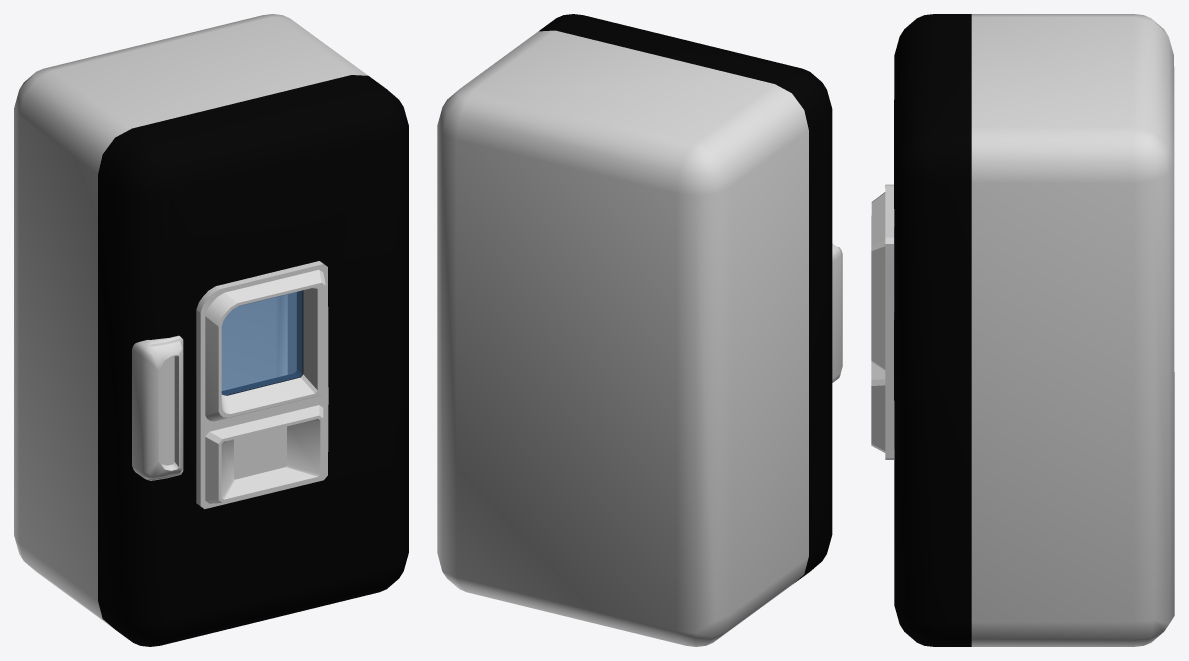
Rendered from refrigerator.fbx.
The picture shows the model from 3 angles, left to right: view 1: azimuth 30°, elevation 25°; view 2: azimuth 150°, elevation 25°; view 3: azimuth 270°, elevation 25°; orthographic projection. The views are drawn at different scales.
Parts seen in each view (by area): view 1: ChamferBox010, ChamferBox009; view 2: ChamferBox009, ChamferBox010; view 3: ChamferBox009, ChamferBox010.
Boxes of the visible parts, x1,y1,x2,y2 form: ChamferBox010: (98, 75, 408, 646); ChamferBox009: (14, 14, 368, 627); ChamferBox009: (437, 30, 808, 646); ChamferBox010: (539, 14, 842, 583); ChamferBox009: (971, 14, 1174, 646); ChamferBox010: (871, 14, 971, 646).
Bounding box in the file's own units: 70.9 × 118 × 63.
